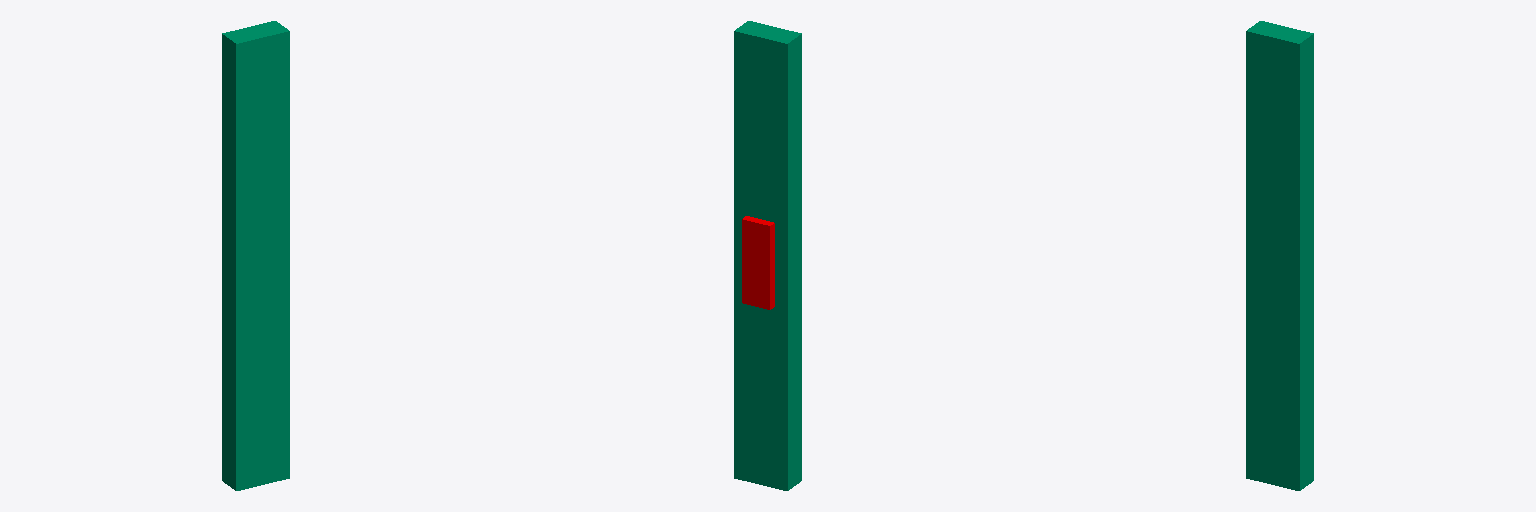
URDF robot description (knife):
<?xml version='1.0' encoding='utf-8'?>
<robot name="knife">
  <link name="base" /><joint name="joint_0" type="fixed"><origin xyz="0 0 0" rpy="0 0 0" /><parent link="base" /><child link="link_0" /></joint><link name="link_1">
    <visual name="link_1">
      <origin xyz="0 0.005887 0" rpy="0 0 0" />
      <geometry>
        <box size="0.010219090581808742 0.002919574969464652 0.028576956118462764" /></geometry>
    <material name="red"><color rgba="1 0 0 1" /></material></visual>
    <collision>
      <origin xyz="0 0.005887 0" rpy="0 0 0" />
      <geometry>
        <box size="0.010219090581808742 0.002919574969464652 0.028576956118462764" /></geometry>
    </collision>
    </link>
  <joint name="joint_1" type="prismatic">
    <origin xyz="0 0 0" />
    <axis xyz="0 0 1" />
    <child link="link_1" />
    <parent link="link_0" />
    <limit lower="-0.034520" upper="0.015480" effort="100.0" velocity="1.0" />
  </joint>
  <link name="link_0">
    <visual name="link_0">
      <origin xyz="0 0 0" />
      <geometry>
        <box size="0.01905211593649654 0.008854297081539652 0.15211145045645147" /></geometry>
    </visual>
    <collision>
      <origin xyz="0 0 0" />
      <geometry>
        <box size="0.01905211593649654 0.008854297081539652 0.15211145045645147" /></geometry>
    </collision>
    </link>
</robot>

--- Render facts (derived) ---
3 views of the same robot in one strip: view 1: azimuth 30°, elevation 25°; view 2: azimuth 150°, elevation 25°; view 3: azimuth 330°, elevation 25° (orthographic).
Model knife with 3 links and 2 joints (1 prismatic, 1 fixed), rooted at base, posed all joints at 0.
Visible links, largest first — view 1: link_0; view 2: link_0, link_1; view 3: link_0.
Link boxes in pixels (bbox=[...]): link_0: bbox=[222, 21, 289, 490]; link_0: bbox=[734, 21, 801, 490]; link_1: bbox=[742, 216, 774, 309]; link_0: bbox=[1246, 21, 1313, 490].
Bounding box of the posed robot: 0.0191 × 0.0118 × 0.1521 m (x, y, z).
Geometry: primitives only (box / cylinder / sphere), no mesh files.
